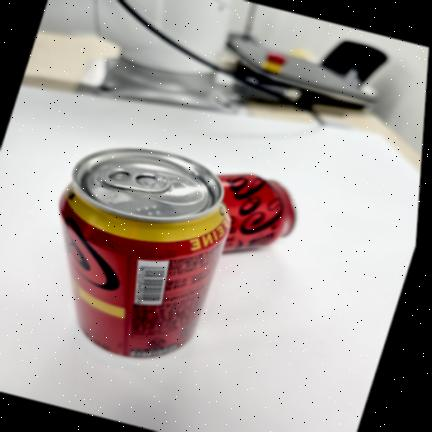can_coke_decaf: (58, 150, 230, 359)
can_coke_zero: (216, 170, 297, 249)
